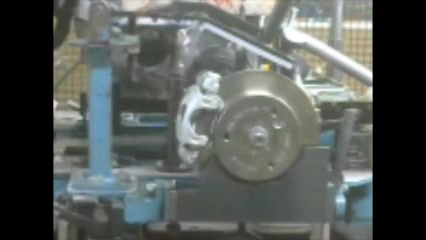DD1: (221, 68, 323, 186)
P1: (173, 69, 226, 167)
